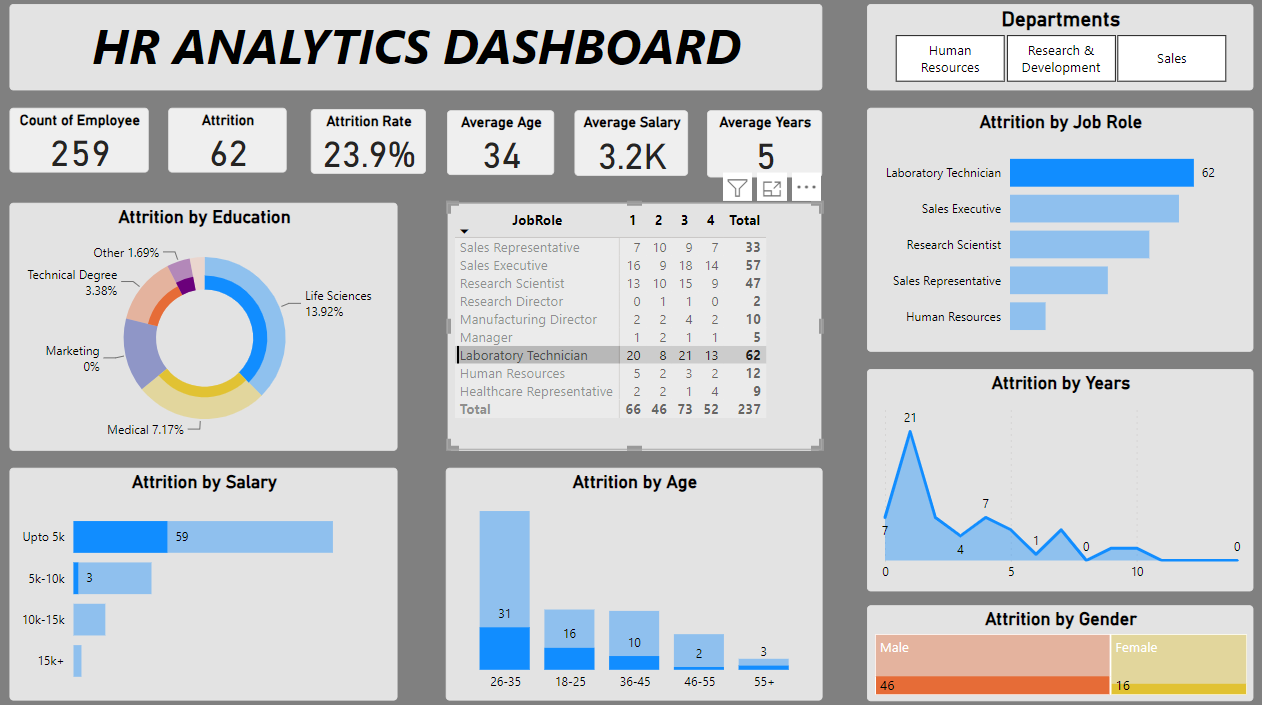

What the dashboard file says about the page in this screenshot:
{"tool":"powerbi","page":{"name":"Page 1","canvas":[1280,720],"ordinal":0},"visuals":[{"type":"card","title":"Count of Employee","fields":{"Values":["CountNonNull(HR_Analytics.EmpID)"]},"box":[17,113.8,139.4,64.9],"z":0},{"type":"card","title":"Attrition","fields":{"Values":["Sum(HR_Analytics.AttritionCount)"]},"box":[176.6,113.8,118.1,64.9],"z":1000},{"type":"card","title":"Attrition Rate","fields":{"Values":["HR_Analytics.AttritionRate"]},"box":[319.1,114.9,114.9,64.9],"z":2000},{"type":"card","title":"Average Age ","fields":{"Values":["Avg(HR_Analytics.Age)"]},"box":[455.3,116,107.4,64.9],"z":3000},{"type":"card","title":"Average Salary","fields":{"Values":["Avg(HR_Analytics.MonthlyIncome)"]},"box":[583,116,113.8,66],"z":4000},{"type":"card","title":"Average Years ","fields":{"Values":["Avg(HR_Analytics.YearsAtCompany)"]},"box":[714.9,116,114.9,67],"z":5000},{"type":"donutChart","title":"Attrition by Education","fields":{"Category":["HR_Analytics.EducationField"],"Y":["Sum(HR_Analytics.AttritionCount)"]},"box":[17,208.5,388.3,247.9],"z":6000},{"type":"columnChart","title":"Attrition by Age","fields":{"Category":["HR_Analytics.AgeGroup"],"Y":["Sum(HR_Analytics.AttritionCount)"]},"box":[453.2,473.4,376.6,233],"z":7000},{"type":"pivotTable","fields":{"Rows":["HR_Analytics.JobRole"],"Columns":["HR_Analytics.JobSatisfaction"],"Values":["Sum(HR_Analytics.AttritionCount)"]},"box":[455.3,208.5,374.5,247.9],"z":8000},{"type":"barChart","title":"Attrition by Salary","fields":{"Category":["HR_Analytics.SalarySlab"],"Y":["Sum(HR_Analytics.AttritionCount)"]},"box":[17,473.4,388.3,233],"z":9000},{"type":"barChart","title":"Attrition by Job Role","fields":{"Category":["HR_Analytics.JobRole"],"Y":["Sum(HR_Analytics.AttritionCount)"]},"box":[875.5,113.8,386.2,243.6],"z":10000},{"type":"areaChart","title":"Attrition by Years","fields":{"Category":["HR_Analytics.YearsAtCompany"],"Y":["Sum(HR_Analytics.AttritionCount)"]},"box":[875,375,386.2,222.5],"z":11000},{"type":"treemap","title":"Attrition by Gender","fields":{"Group":["HR_Analytics.Gender"],"Values":["Sum(HR_Analytics.AttritionCount)"]},"box":[875.5,610.6,386.2,95.7],"z":12000},{"type":"slicer","title":"Departments","fields":{"Values":["HR_Analytics.Department"]},"box":[875.5,9.6,386.2,86.2],"z":13000},{"type":"textbox","box":[17,9.6,812.8,86.2],"z":14000}]}

Visuals, with their boxes in screenshot pixels (x1, y1, x2, y2), scaled from the page's 1280x720 canvas onto the 1262x705 screenshot:
"Count of Employee" card: left=17, top=111, right=154, bottom=175
"Attrition" card: left=174, top=111, right=291, bottom=175
"Attrition Rate" card: left=315, top=113, right=428, bottom=176
"Average Age " card: left=449, top=114, right=555, bottom=177
"Average Salary" card: left=575, top=114, right=687, bottom=178
"Average Years " card: left=705, top=114, right=818, bottom=179
"Attrition by Education" donutChart: left=17, top=204, right=400, bottom=447
"Attrition by Age" columnChart: left=447, top=464, right=818, bottom=692
pivotTable - HR_Analytics.JobRole x HR_Analytics.JobSatisfaction: left=449, top=204, right=818, bottom=447
"Attrition by Salary" barChart: left=17, top=464, right=400, bottom=692
"Attrition by Job Role" barChart: left=863, top=111, right=1244, bottom=350
"Attrition by Years" areaChart: left=863, top=367, right=1243, bottom=585
"Attrition by Gender" treemap: left=863, top=598, right=1244, bottom=692
"Departments" slicer: left=863, top=9, right=1244, bottom=94
textbox: left=17, top=9, right=818, bottom=94
